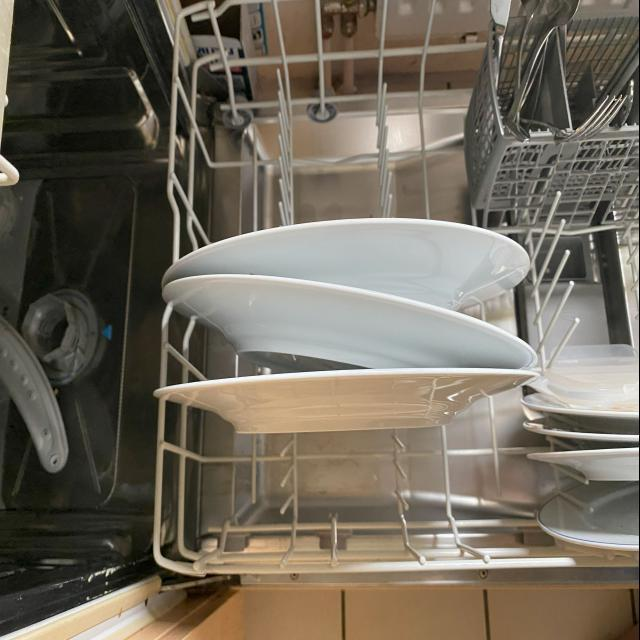clutery_bin: (482, 4, 640, 192)
empty_slot: (194, 56, 464, 214), (169, 437, 495, 564)
